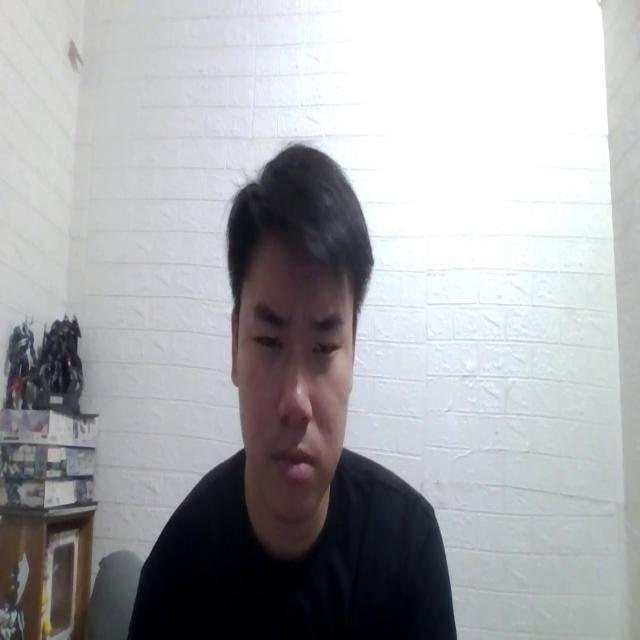student: (111, 146, 456, 640)
